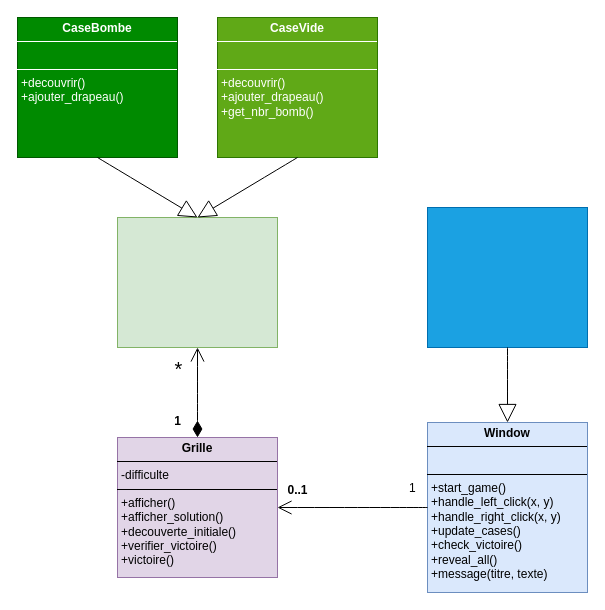
Image size: 605x610. Some labels were removed from this diagram. The shapes that lost their labels are listed below. From the top down, each one's centre as x and y in pixels, then its label:
point 197,282: Case -position -grille -drapeau +decouvrir() +ajouter_drapeau()
point 507,277: Ui_Dialog +setupUi(Dialog) +retranslateUi(Dialog)
